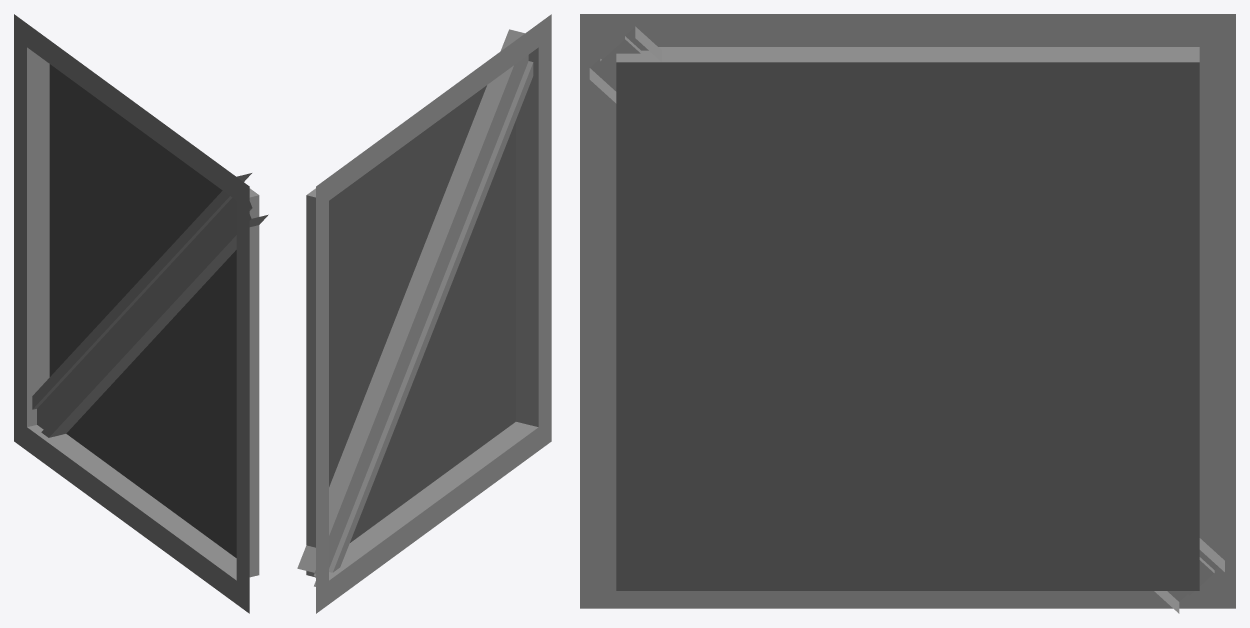
The model's file is Wall_09.FBX.
The picture shows the model from 3 angles, left to right: view 1: azimuth 30°, elevation 25°; view 2: azimuth 150°, elevation 25°; view 3: azimuth 270°, elevation 25°; orthographic projection. The views are drawn at different scales.
Visible parts, largest first — view 1: Wall_09_LOD0; view 2: Wall_09_LOD0; view 3: Wall_09_LOD0.
Part boxes in pixels (x1,y1,x2,y2): Wall_09_LOD0: [14, 14, 268, 613]; Wall_09_LOD0: [297, 14, 551, 613]; Wall_09_LOD0: [580, 14, 1235, 613].
Size of what is drawn, in the model's own units: 10 by 180 by 180.
